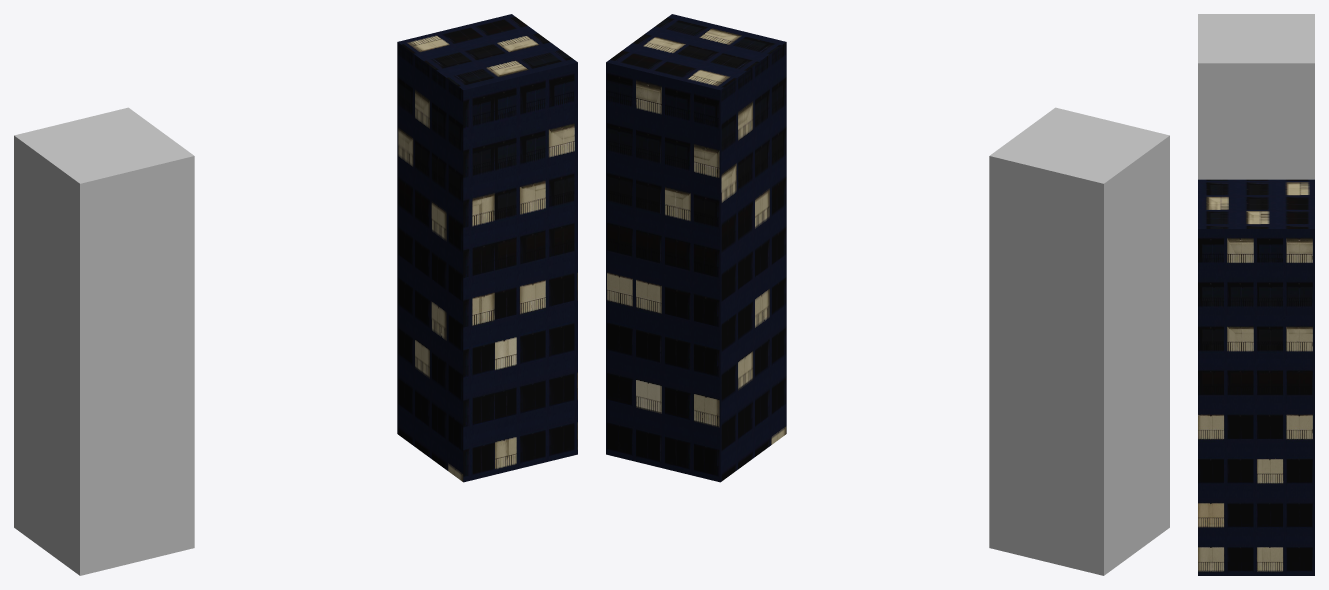
File: Buildings.fbx
3 views of the same model, side by side, from view 1: azimuth 30°, elevation 25°; view 2: azimuth 150°, elevation 25°; view 3: azimuth 270°, elevation 25° (orthographic). The views are drawn at different scales.
Visible parts, largest first — view 1: Cube, Cube.004; view 2: Cube, Cube.004; view 3: Cube, Cube.004.
Part boxes in pixels (<box>): Cube: <box>397,14,577,482</box>; Cube.004: <box>14,107,194,575</box>; Cube: <box>606,14,786,482</box>; Cube.004: <box>989,107,1169,575</box>; Cube: <box>1198,179,1314,575</box>; Cube.004: <box>1198,14,1314,179</box>.
Bounding box in the file's own units: 57267 × 43102 × 13170.
